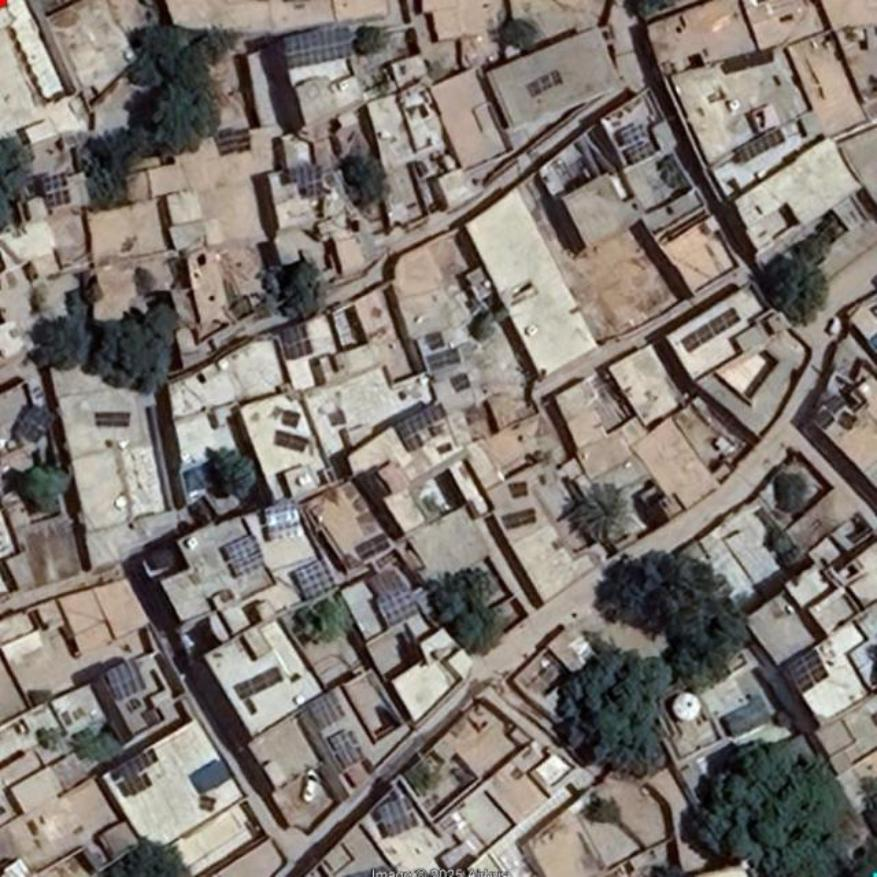Solarpanel: (284, 24, 352, 70), (683, 305, 740, 353), (394, 403, 445, 438), (292, 558, 335, 599), (377, 587, 417, 631), (736, 126, 782, 163), (374, 796, 415, 836), (787, 653, 829, 691), (17, 405, 56, 444), (225, 536, 263, 576), (110, 661, 147, 700), (278, 321, 312, 361), (237, 669, 283, 698), (39, 174, 73, 209), (332, 732, 363, 767), (218, 127, 251, 152), (277, 432, 305, 454), (504, 512, 536, 529), (429, 350, 461, 367), (96, 413, 131, 424)
